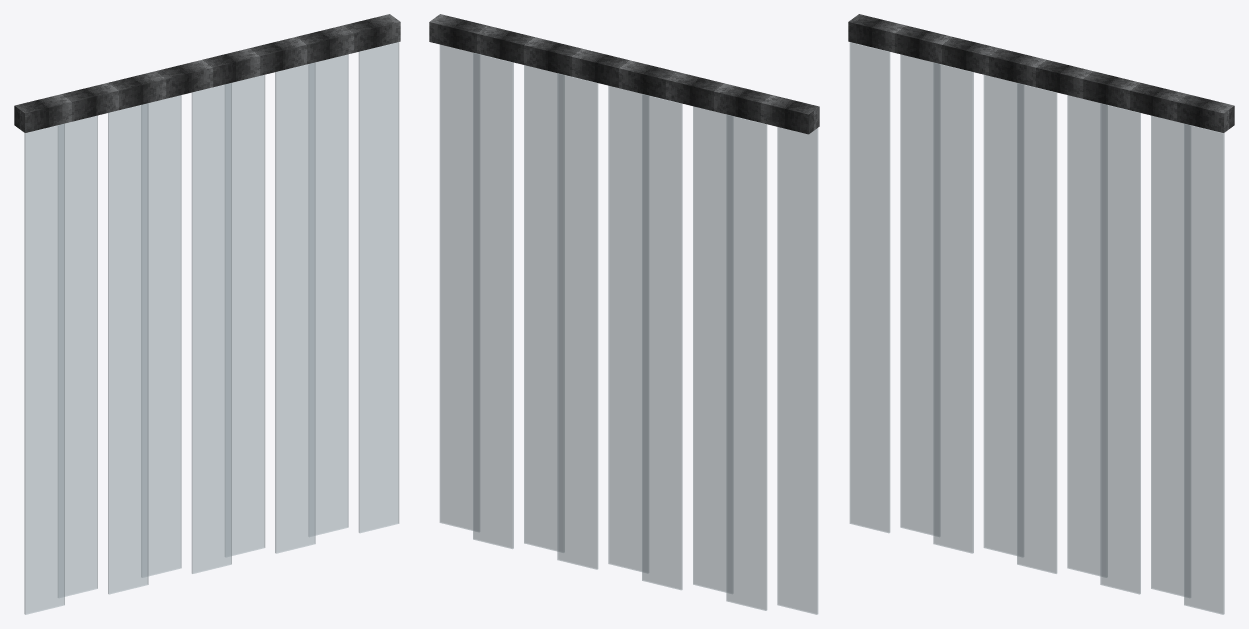
Rendered from strip_curtain.glb.
3 views of the same model, side by side, from view 1: azimuth 30°, elevation 25°; view 2: azimuth 150°, elevation 25°; view 3: azimuth 330°, elevation 25° (orthographic).
Parts seen in each view (by area): view 1: strip_curtain; view 2: strip_curtain; view 3: strip_curtain.
Part boxes in pixels (bbox=[...]): strip_curtain: bbox=[14, 14, 400, 614]; strip_curtain: bbox=[429, 14, 819, 614]; strip_curtain: bbox=[848, 14, 1234, 614].
Size of the model in its own units: 2 by 2.56 by 0.1.
Materials: 2 (1 with a texture image).
